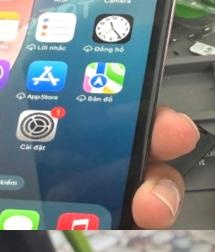physical_damage: (137, 242, 215, 252)
